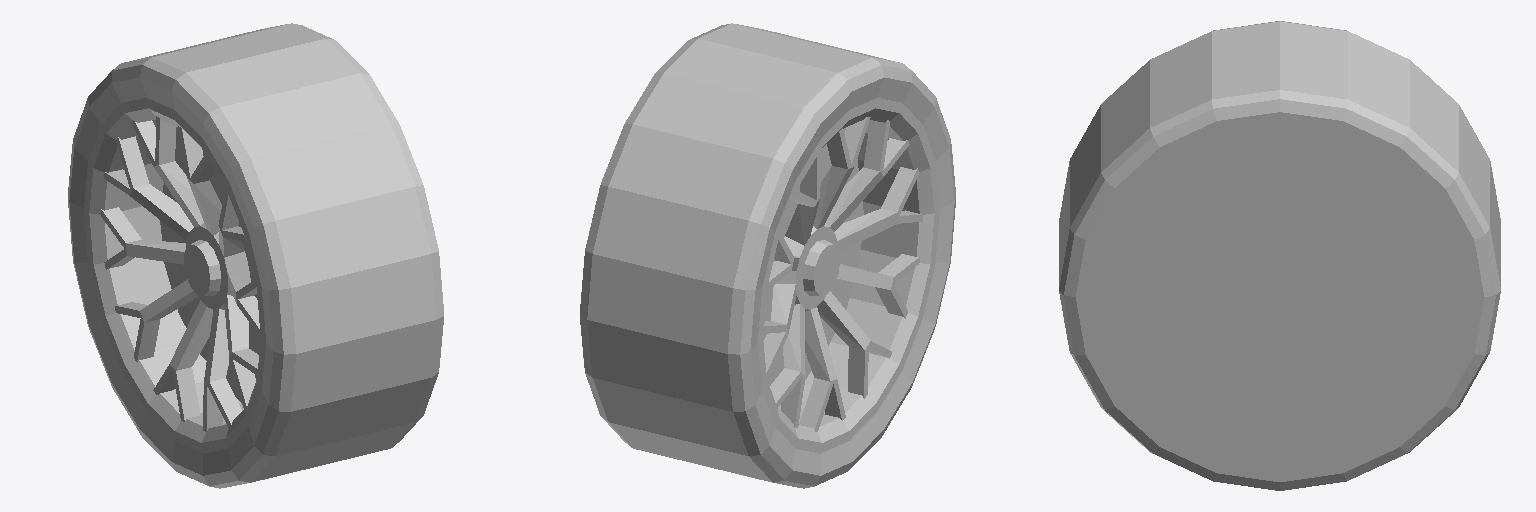
The model's file is Lamborghini_Aventador_front_right_wheel.obj.
3 renders of one model, left to right at view 1: azimuth 30°, elevation 25°; view 2: azimuth 150°, elevation 25°; view 3: azimuth 270°, elevation 25°, orthographic.
Visible parts, largest first — view 1: Lamborghini_Aventador:Wheel_FL.002; view 2: Lamborghini_Aventador:Wheel_FL.002; view 3: Lamborghini_Aventador:Wheel_FL.002.
Boxes of the visible parts, box(x1,y1,x2,y2) form: Lamborghini_Aventador:Wheel_FL.002: box(68, 23, 443, 488); Lamborghini_Aventador:Wheel_FL.002: box(580, 23, 955, 488); Lamborghini_Aventador:Wheel_FL.002: box(1059, 21, 1500, 490).
Size of the model in its own units: 0.3329 by 0.7543 by 0.7543.